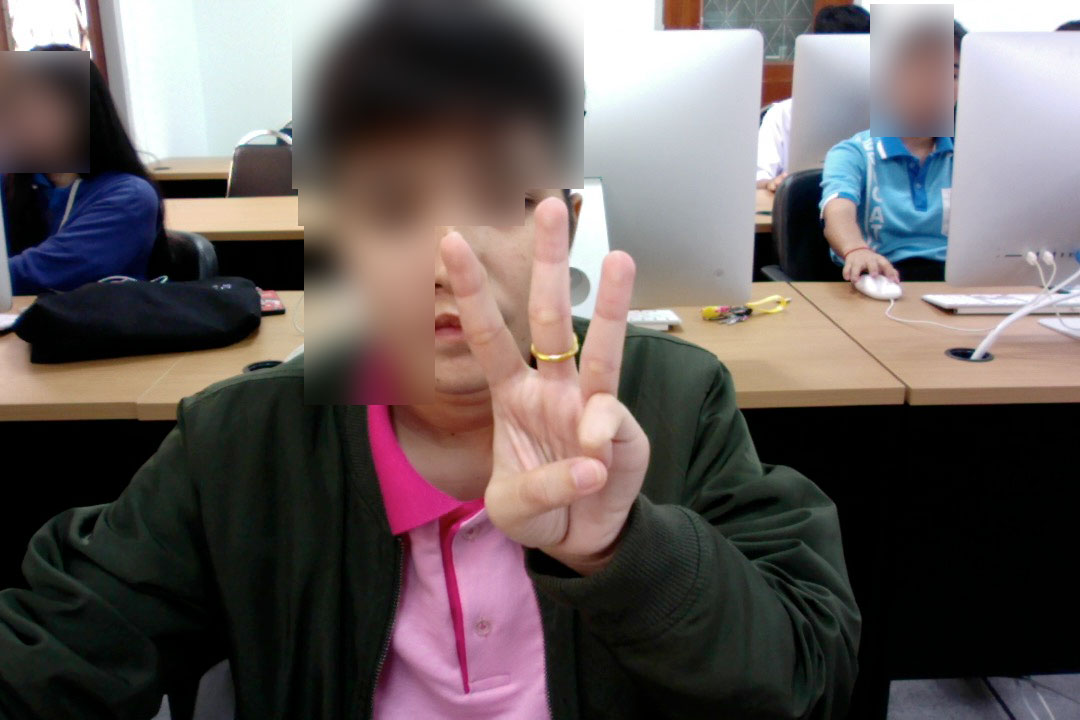wor: (411, 203, 680, 564)
